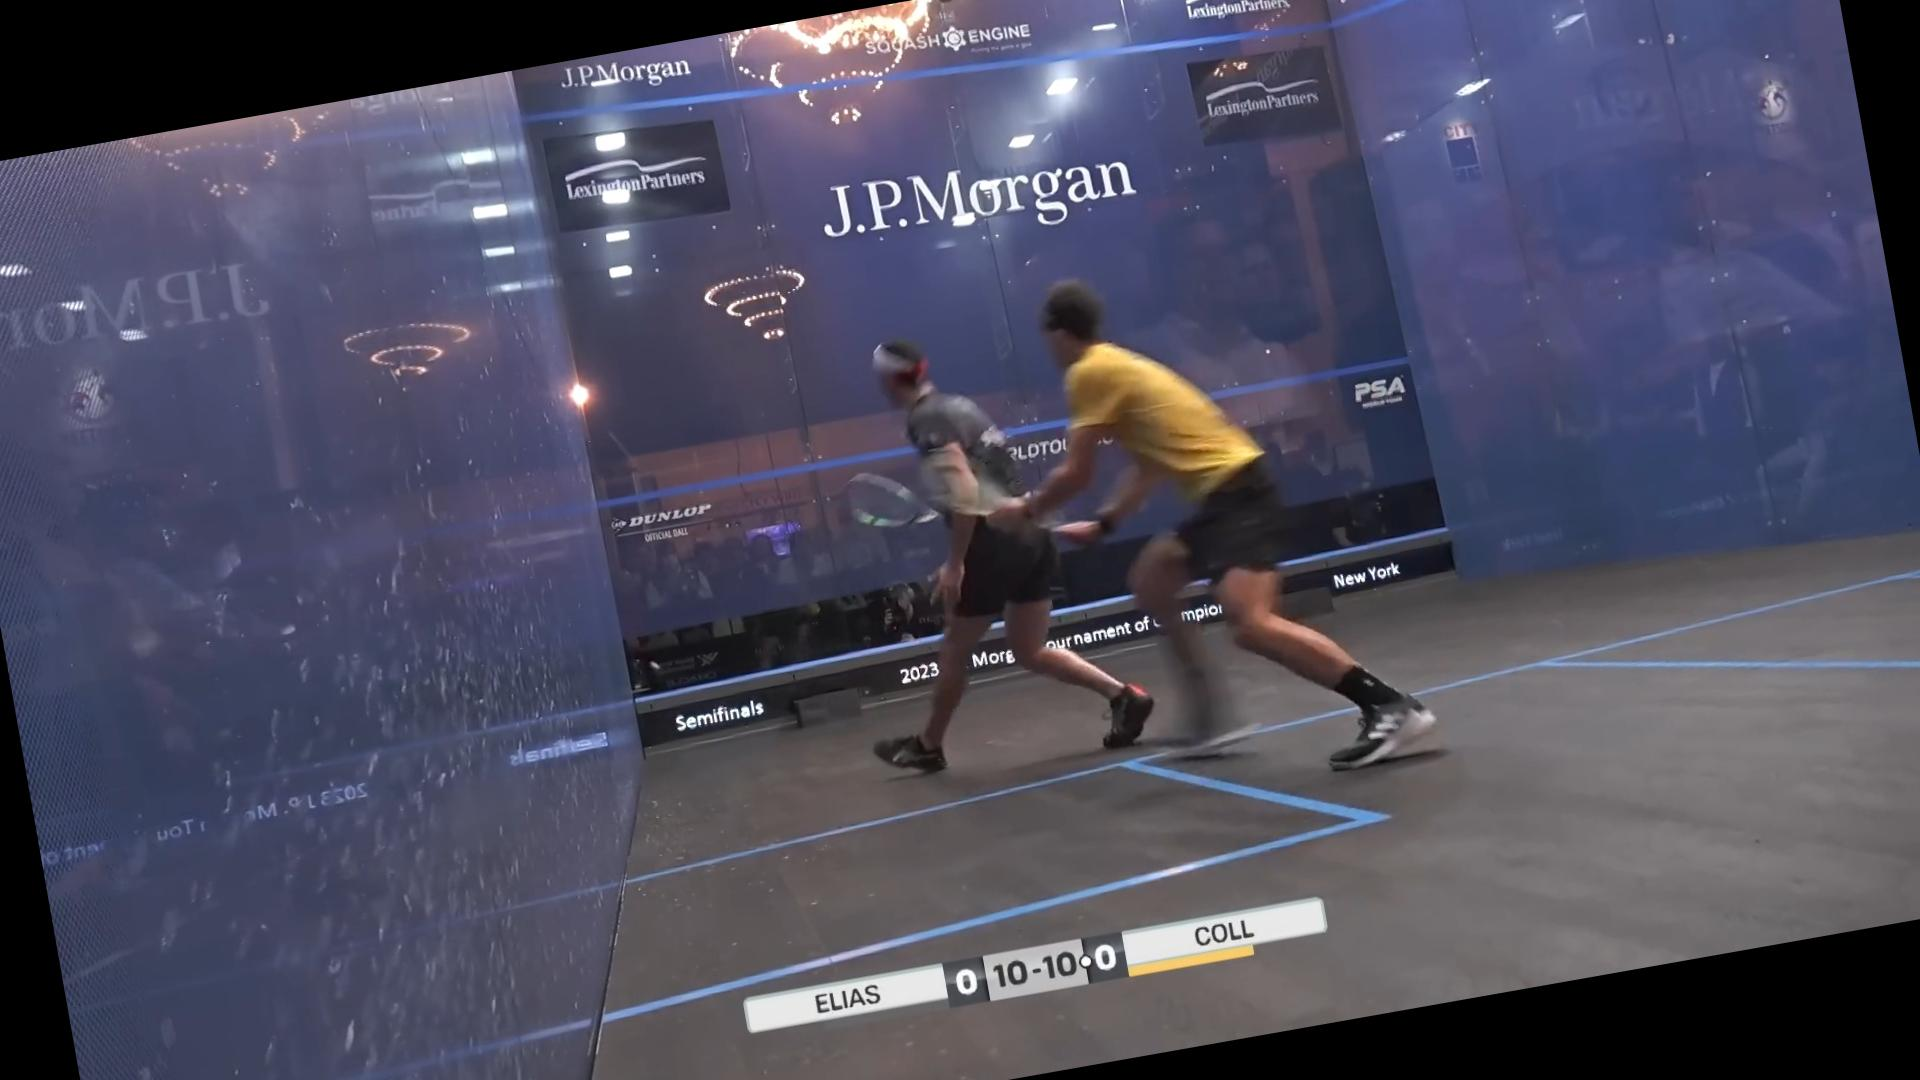Racket: (825, 447, 943, 539), (911, 429, 1019, 527)
